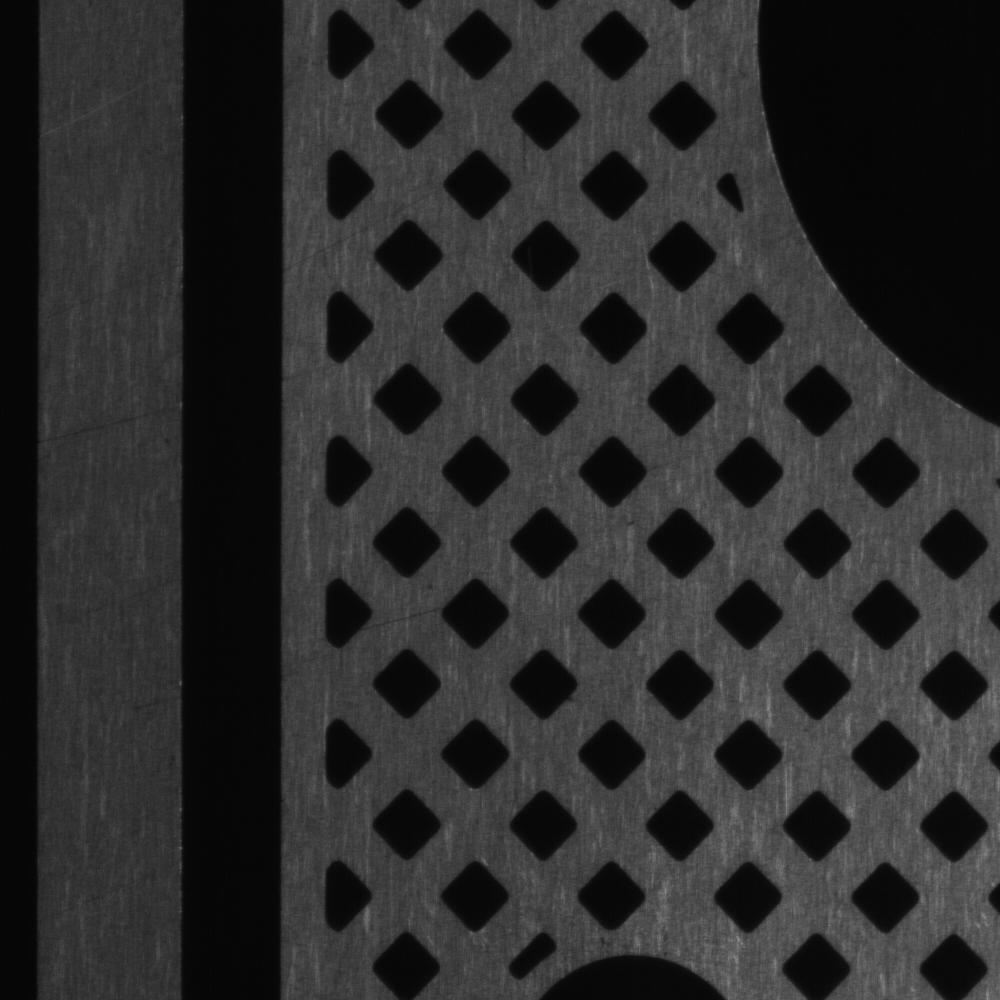Scar: (284, 182, 430, 281), (42, 58, 174, 156), (41, 552, 180, 640), (43, 841, 183, 926), (35, 260, 176, 340), (37, 394, 177, 452), (284, 334, 422, 388), (638, 438, 745, 477), (358, 591, 448, 636), (647, 4, 717, 54), (107, 687, 184, 727)
